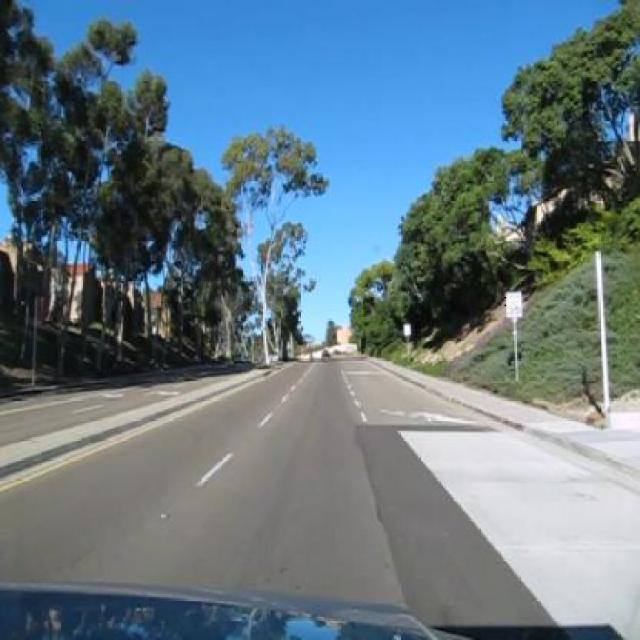speedLimit35: (505, 290, 522, 318)
